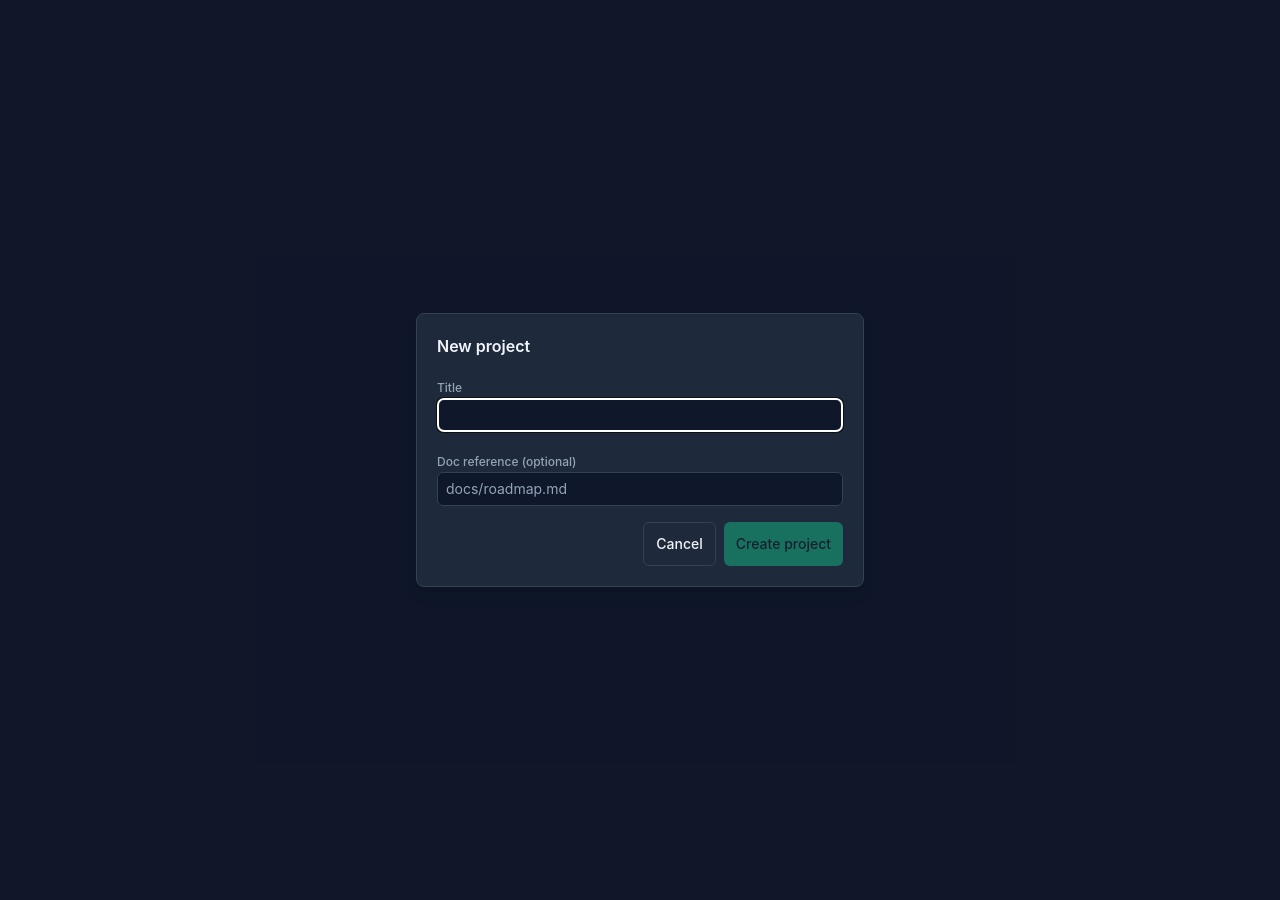
NewProjectModal › shows an inline destructive-coloured error and keeps the modal open on failure
Type "Doomed" into the field with test id "new-project-title" at {"x": 640, "y": 415}, box [437,398,843,432]
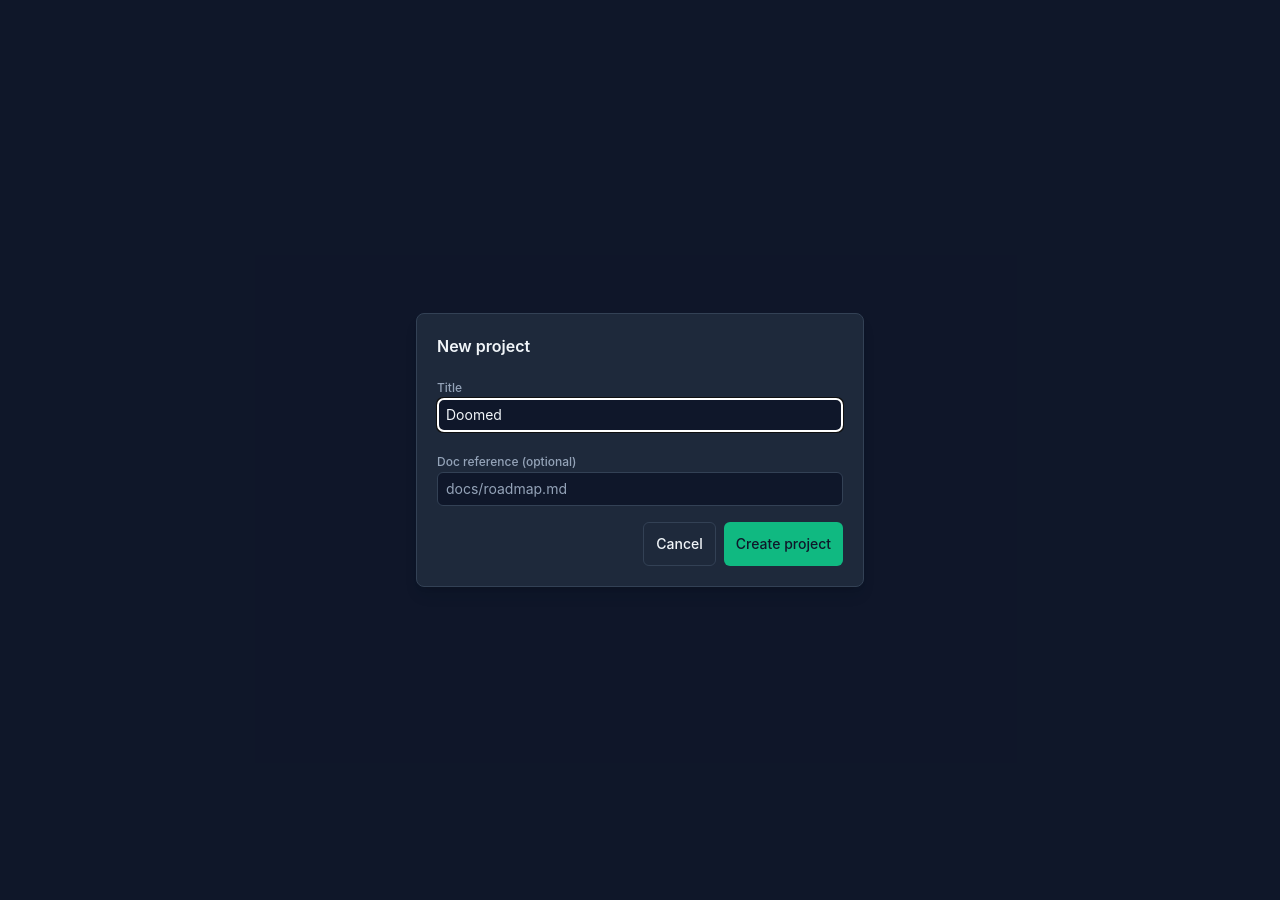
Click the button with test id "new-project-submit" at {"x": 783, "y": 544}, box [724,522,843,566]
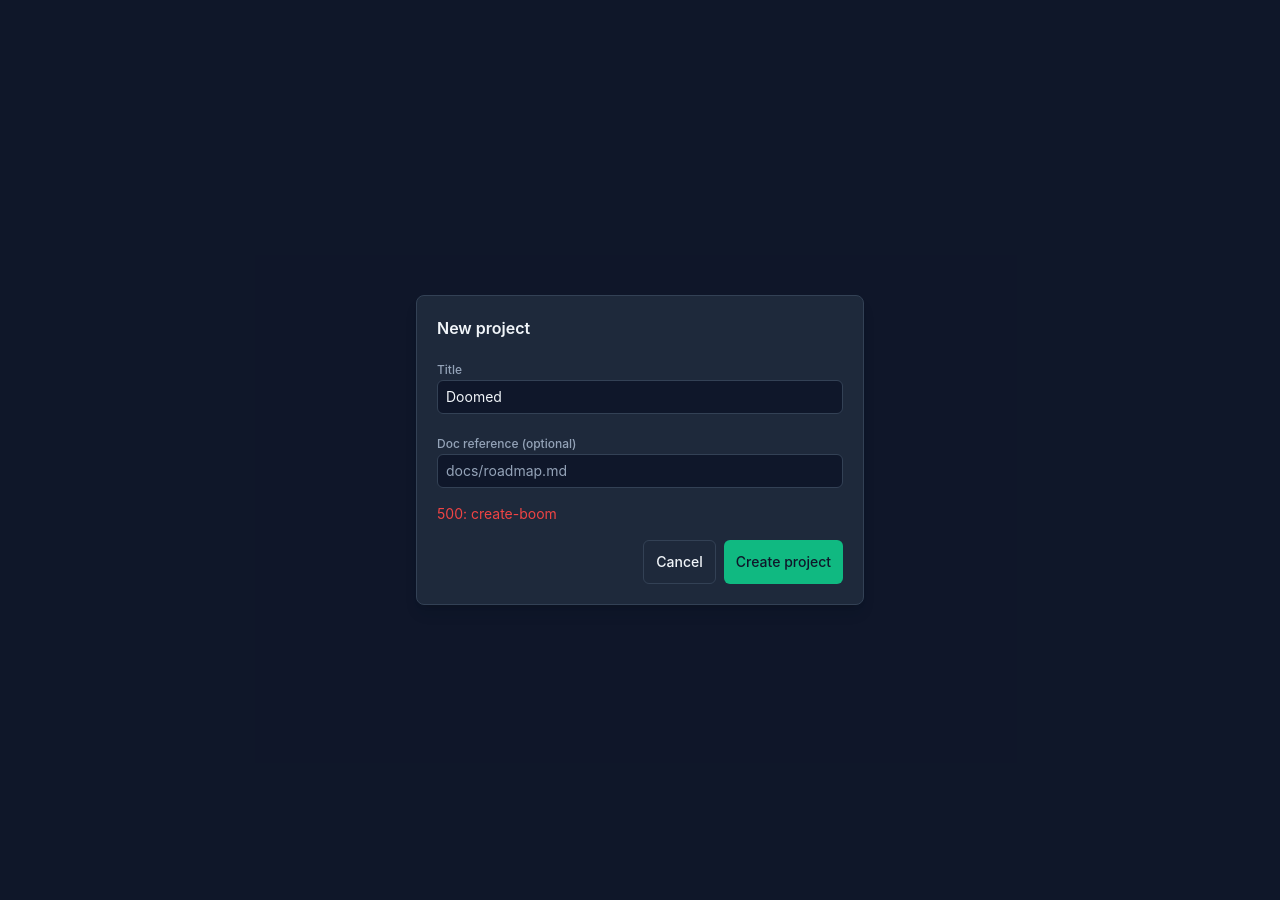
Expected: the dialog with test id "new-project-dialog" is shown, [416,295,864,605]
Expected: the message with test id "new-project-error" shows "create-boom", [437,505,557,522]
